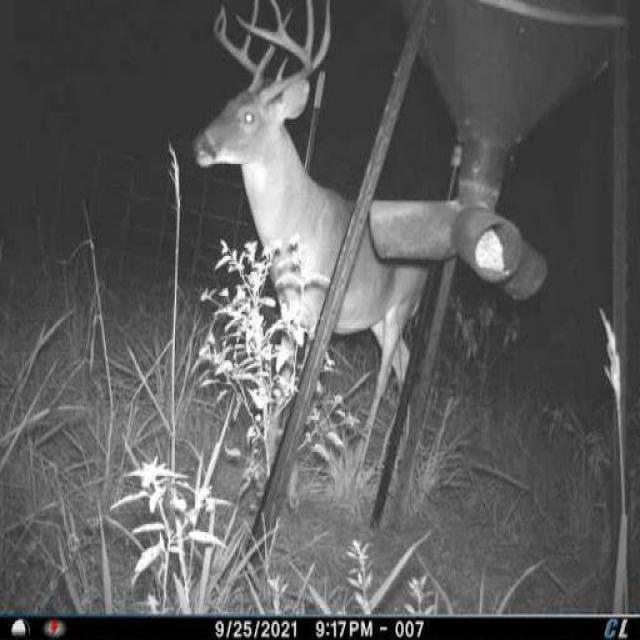deer: (190, 0, 456, 492)
